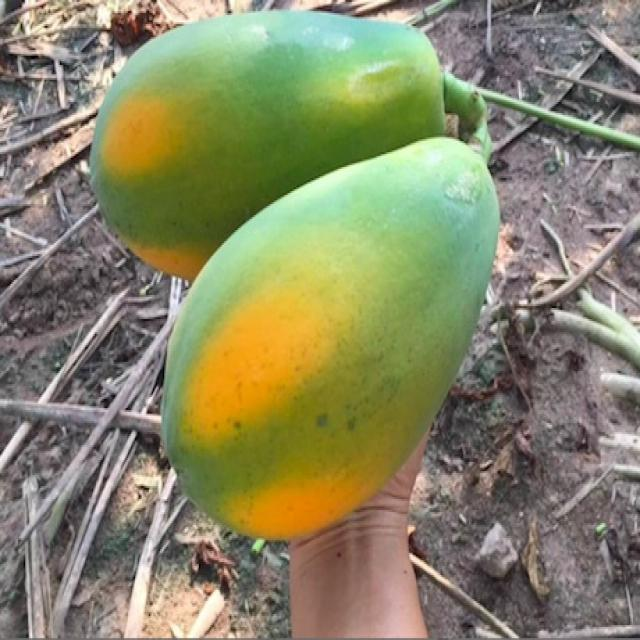Pepaya rippen: (156, 130, 504, 542), (58, 2, 470, 273)
